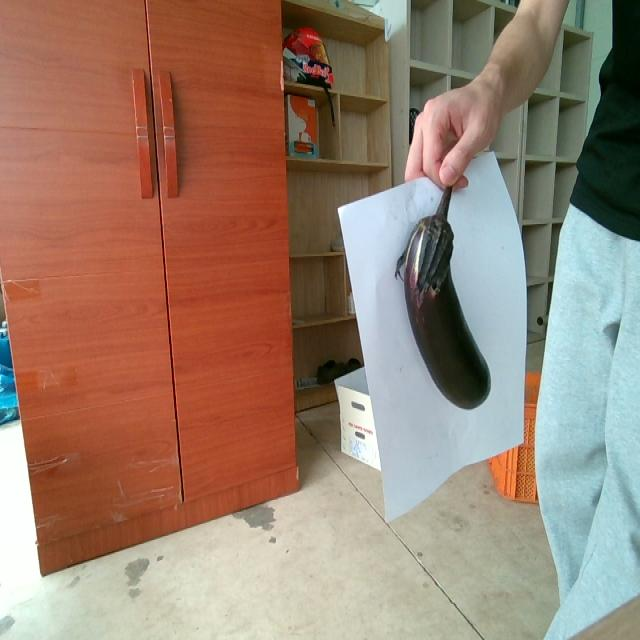Egg plant: (395, 187, 490, 408)
